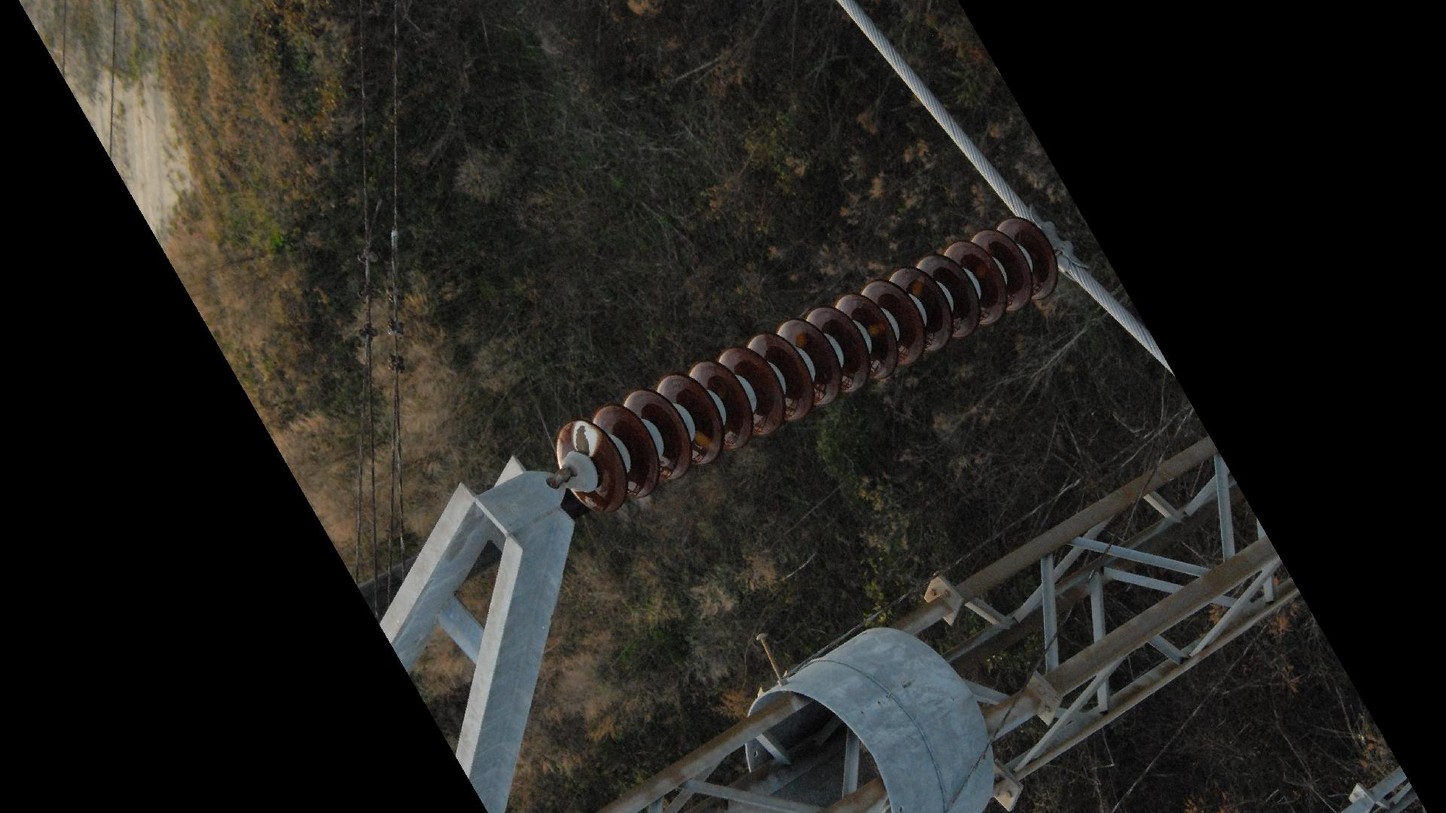insulator: (551, 213, 1066, 516)
insulator_flashover: (567, 418, 603, 456), (693, 429, 718, 452)
